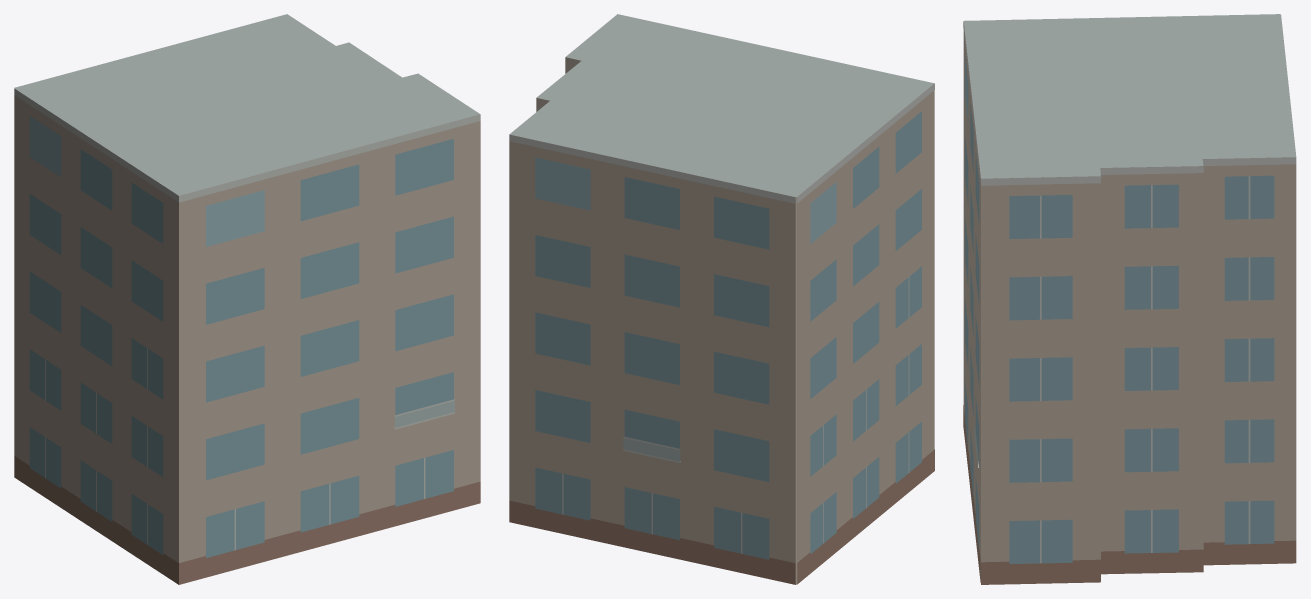
Rendered from survey-upis-32939496.glb.
3 renders of one model, left to right at view 1: azimuth 30°, elevation 25°; view 2: azimuth 150°, elevation 25°; view 3: azimuth 270°, elevation 25°, orthographic. The views are drawn at different scales.
Visible parts, largest first — view 1: survey-upis-32939496.tmp; view 2: survey-upis-32939496.tmp; view 3: survey-upis-32939496.tmp.
Boxes of the visible parts, <box> form: survey-upis-32939496.tmp: <box>14,14,480,584</box>; survey-upis-32939496.tmp: <box>509,14,934,584</box>; survey-upis-32939496.tmp: <box>963,14,1296,584</box>.
Bounding box in the file's own units: 12.36 × 14.2 × 10.56.
